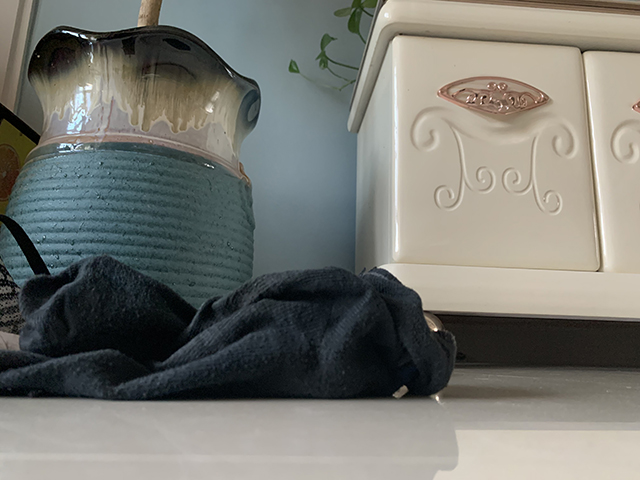cabinet: (343, 1, 640, 339)
socks: (1, 254, 461, 403)
